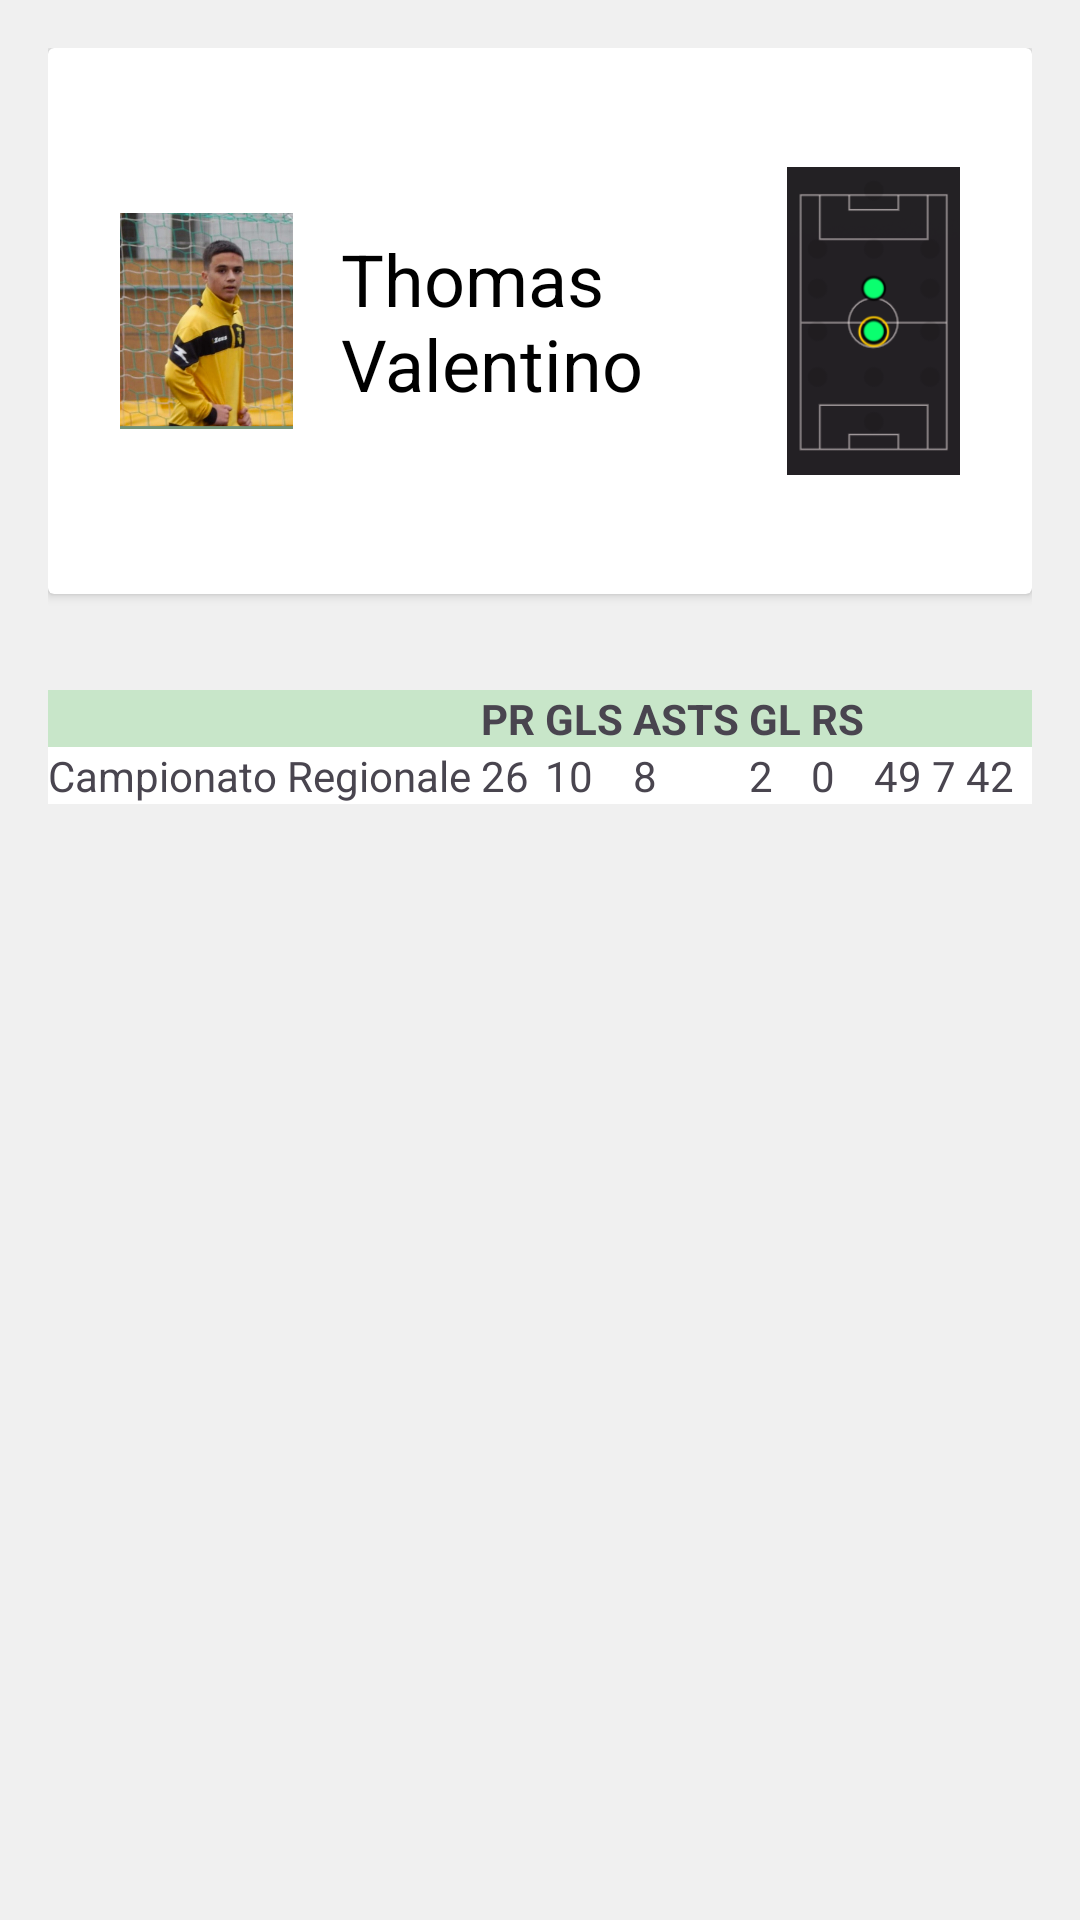

Screen size 1080 × 1920. Icon name, then its box in pixels as [x1,y1,x2,y2]:
ruoli: [787,167,960,475]
